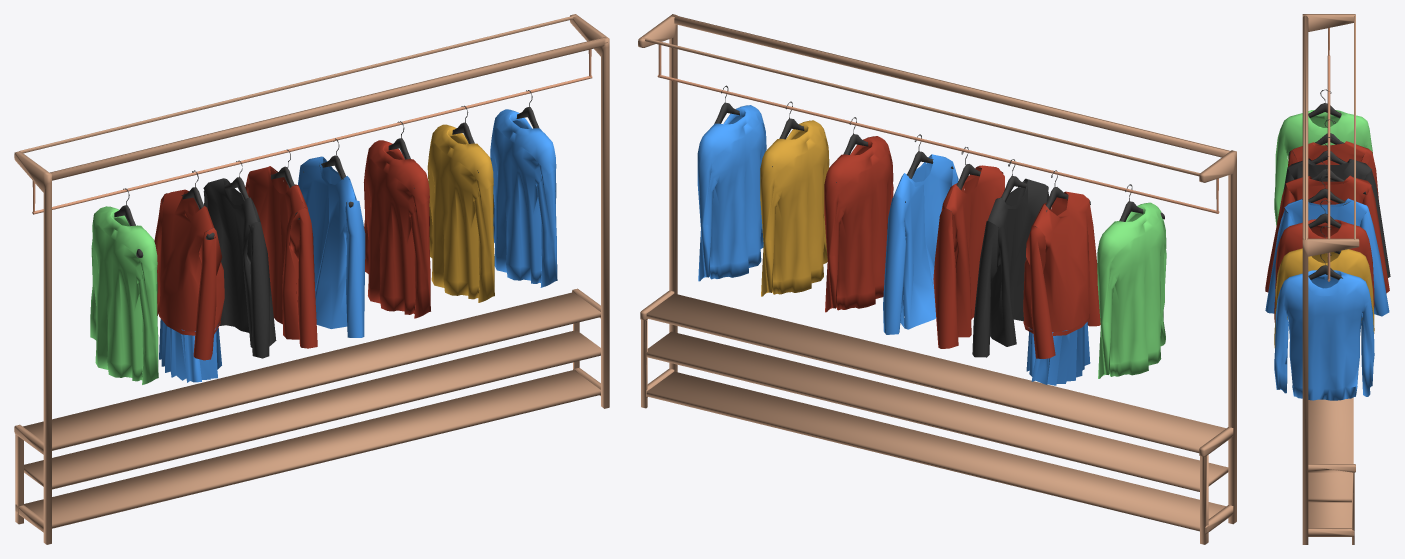
Rendered from Cloth-Rack03.fbx.
The picture shows the model from 3 angles, left to right: view 1: azimuth 30°, elevation 25°; view 2: azimuth 150°, elevation 25°; view 3: azimuth 270°, elevation 25°; orthographic projection. The views are drawn at different scales.
Visible parts, largest first — view 1: Pattern2D_5081.003, Final.010, Tshirt.005, Tshirt.003, Tshirt.002, Tshirt.001, Cylinder.007, Final.011; view 2: Pattern2D_5081.003, Final.010, Tshirt.005, Tshirt.002, Tshirt.001, Tshirt.003, Cylinder.007, Final.011; view 3: Pattern2D_5081.003, Tshirt.001, Final.010, Tshirt.005, Tshirt.002, Tshirt.003, Final.011, Cylinder.007, Final.007, Final.006, Final.005.
Boxes of the visible parts, x1,y1,x2,y2 form: Pattern2D_5081.003: (14,14,609,544); Final.010: (154,156,365,382); Tshirt.005: (90,206,158,384); Tshirt.003: (363,140,430,318); Tshirt.002: (427,124,494,302); Tshirt.001: (490,109,557,287); Cylinder.007: (32,49,592,214); Final.011: (162,138,353,239); Pattern2D_5081.003: (638,14,1236,544); Final.010: (883,154,1100,385); Tshirt.005: (1097,202,1166,378); Tshirt.002: (760,120,829,296); Tshirt.001: (697,105,766,281); Tshirt.003: (824,136,893,312); Cylinder.007: (657,44,1219,213); Final.011: (905,134,1090,227); Pattern2D_5081.003: (1302,14,1359,544); Tshirt.001: (1274,270,1374,400); Final.010: (1265,141,1390,316); Tshirt.005: (1274,110,1372,226); Tshirt.002: (1274,248,1374,347); Tshirt.003: (1274,219,1374,322); Final.011: (1284,119,1368,212); Cylinder.007: (1327,28,1330,281); Final.007: (1308,89,1341,118); Final.006: (1308,200,1341,228); Final.005: (1308,253,1342,279).
Bounding box in the file's own units: 769 × 483 × 180.
